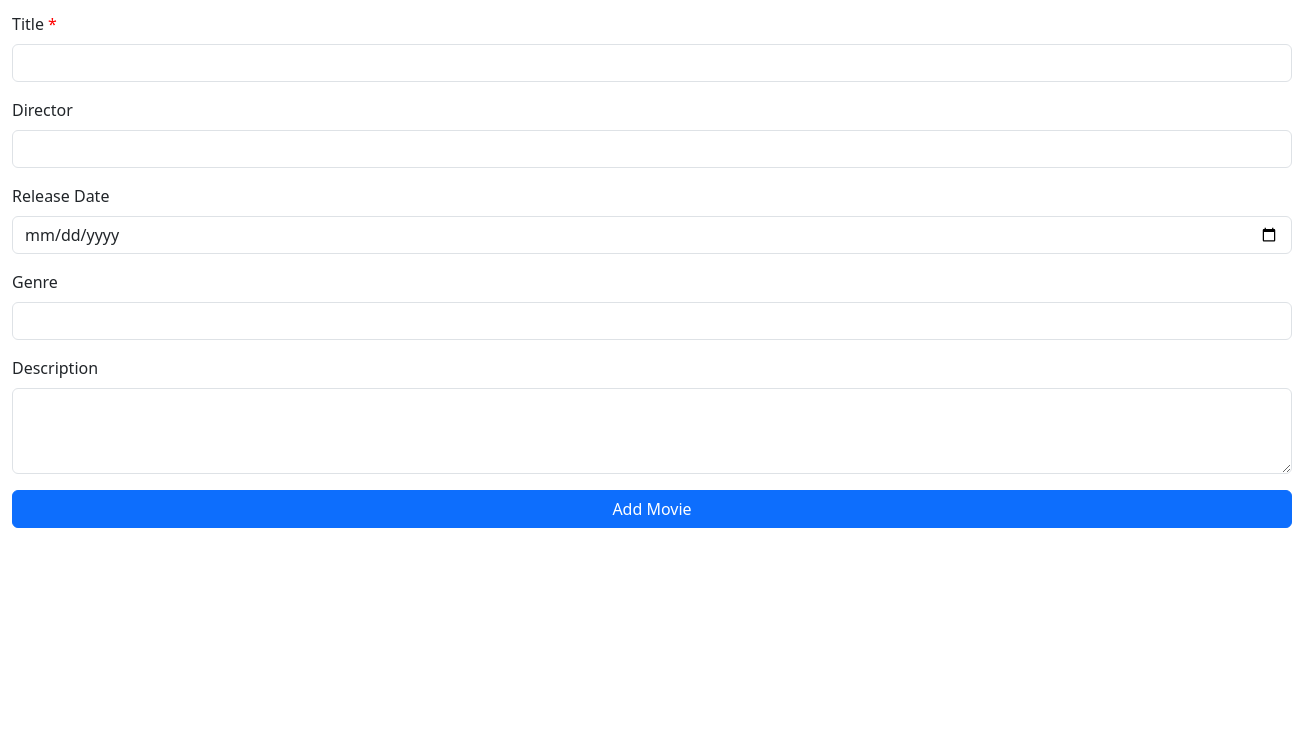
Scenario: MovieForm Component › shows validation error when title is empty
// Submit form without entering a title
Click the button with test id "submit-button" at (652, 509), box [12, 490, 1292, 528]
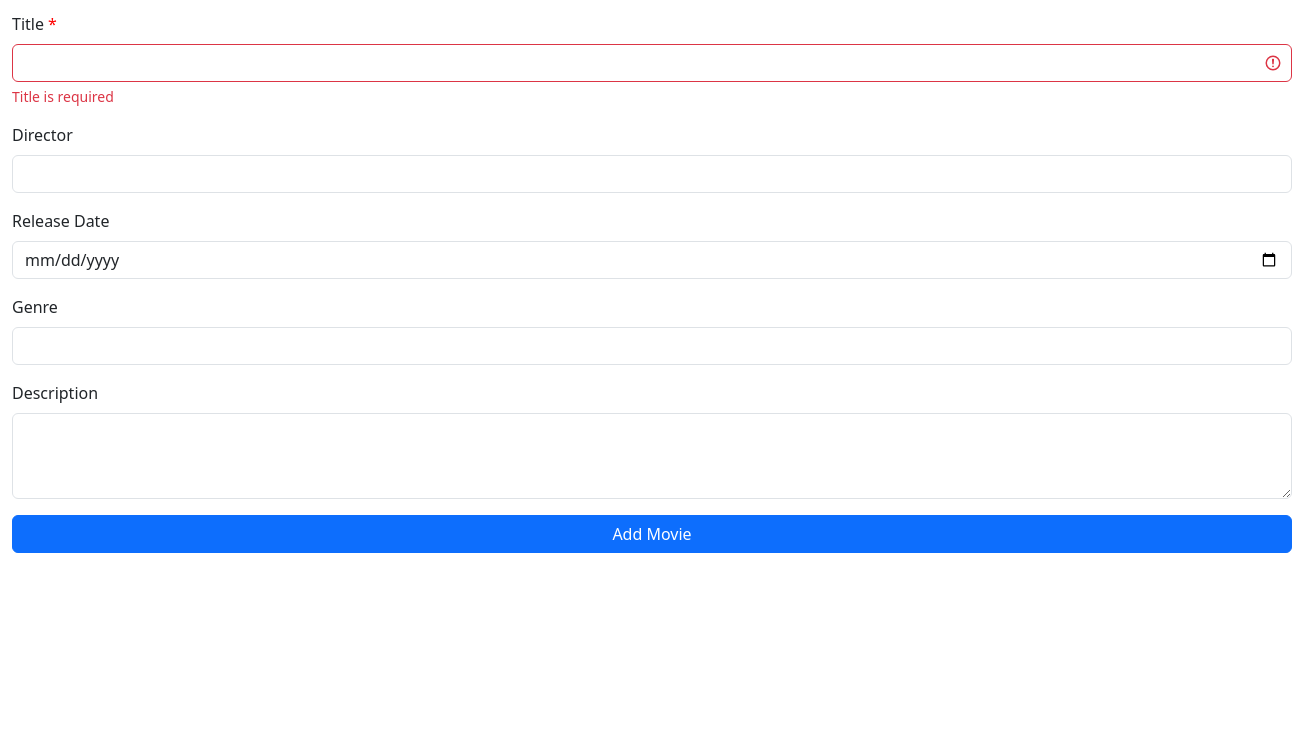
Result: the text "Title is required" is shown at [12, 87, 114, 106]
